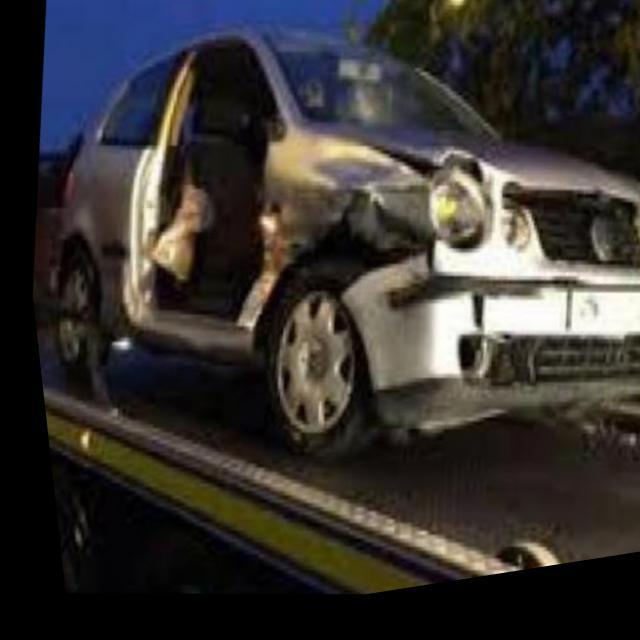no part: (110, 46, 577, 450)
